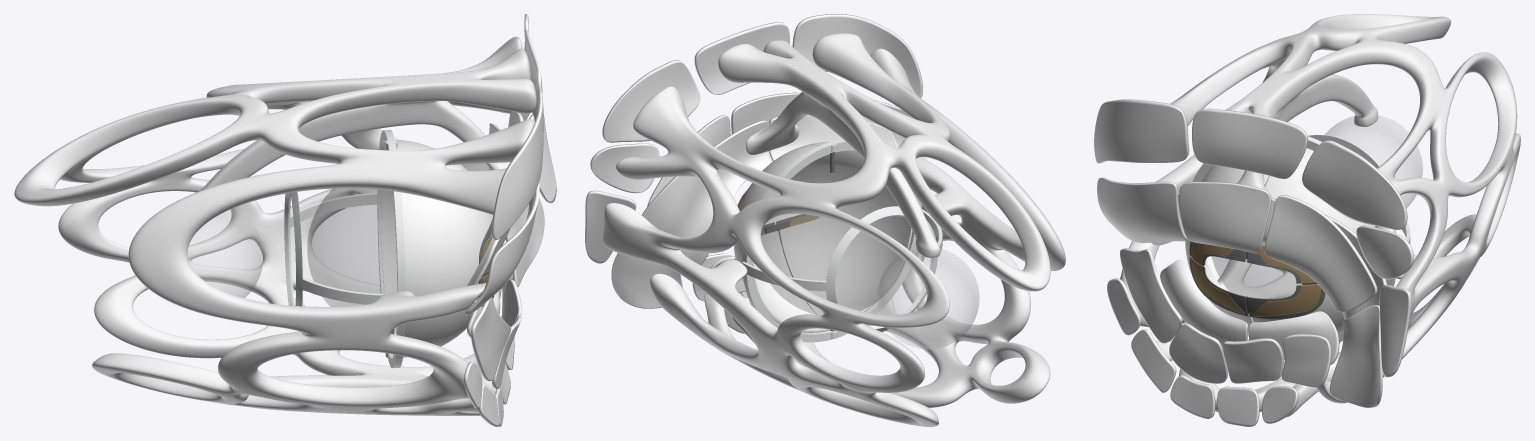
File: symphatic_eye.glb
3 renders of one model, left to right at view 1: azimuth 30°, elevation 25°; view 2: azimuth 150°, elevation 25°; view 3: azimuth 270°, elevation 25°, orthographic. The views are drawn at different scales.
Visible parts, largest first — view 1: backobj2(6A2AFE2C-17B3-454C-A26D-C7F89EE7CDE0), face2(60D54DBF-6707-4EA3-86E7-938D284A7E01), eyeball2(245463F2-D720-4BA3-96F3-92A0A26800F0), Layer 03(556131D1-140D-4EE6-8BC2-88CFD28135E4), Layer 03(143C93B9-9A65-481C-BA0E-18CB47DD3C3D), Layer 05(876AB7D2-BCBB-47B8-9987-E21C76E21DCC), Layer 05(76F17C8F-D341-43CC-A583-EF664C230679), eyeball(4D0A8C52-97C8-4DEB-8864-66B2F6092446), face2(021B373E-D235-4D30-9A2E-C11AE819CBC6); view 2: backobj2(6A2AFE2C-17B3-454C-A26D-C7F89EE7CDE0), face2(60D54DBF-6707-4EA3-86E7-938D284A7E01), Layer 03(556131D1-140D-4EE6-8BC2-88CFD28135E4), eyeball2(245463F2-D720-4BA3-96F3-92A0A26800F0), face2(021B373E-D235-4D30-9A2E-C11AE819CBC6), Layer 03(143C93B9-9A65-481C-BA0E-18CB47DD3C3D), eyeball(4D0A8C52-97C8-4DEB-8864-66B2F6092446), Layer 05(76F17C8F-D341-43CC-A583-EF664C230679), Layer 05(876AB7D2-BCBB-47B8-9987-E21C76E21DCC); view 3: face2(60D54DBF-6707-4EA3-86E7-938D284A7E01), backobj2(6A2AFE2C-17B3-454C-A26D-C7F89EE7CDE0), face2(021B373E-D235-4D30-9A2E-C11AE819CBC6), Layer 03(143C93B9-9A65-481C-BA0E-18CB47DD3C3D), Layer 03(556131D1-140D-4EE6-8BC2-88CFD28135E4), eyeball(4D0A8C52-97C8-4DEB-8864-66B2F6092446), eyecolor2(17D5601C-E4CE-4B9F-87A1-18B8A432BFAD), eyeball2(245463F2-D720-4BA3-96F3-92A0A26800F0), Layer 01(F42EA3EF-1D5A-4140-B3BC-B217B113D519), eyecolor2(187932F1-15FA-4686-BD4F-27A44E0F44D4), Layer 01(82EE4538-2ED8-43BE-B694-5B99B066EF90), Layer 05(876AB7D2-BCBB-47B8-9987-E21C76E21DCC) (+3 smaller).
Boxes of the visible parts, bbox=[...] form: backobj2(6A2AFE2C-17B3-454C-A26D-C7F89EE7CDE0): bbox=[14, 36, 536, 415]; face2(60D54DBF-6707-4EA3-86E7-938D284A7E01): bbox=[464, 14, 556, 426]; eyeball2(245463F2-D720-4BA3-96F3-92A0A26800F0): bbox=[393, 150, 492, 357]; Layer 03(556131D1-140D-4EE6-8BC2-88CFD28135E4): bbox=[307, 188, 396, 332]; Layer 03(143C93B9-9A65-481C-BA0E-18CB47DD3C3D): bbox=[187, 207, 263, 297]; Layer 05(876AB7D2-BCBB-47B8-9987-E21C76E21DCC): bbox=[284, 191, 383, 306]; Layer 05(76F17C8F-D341-43CC-A583-EF664C230679): bbox=[377, 130, 405, 368]; eyeball(4D0A8C52-97C8-4DEB-8864-66B2F6092446): bbox=[381, 139, 467, 334]; face2(021B373E-D235-4D30-9A2E-C11AE819CBC6): bbox=[467, 123, 510, 338]; backobj2(6A2AFE2C-17B3-454C-A26D-C7F89EE7CDE0): bbox=[602, 33, 1065, 426]; face2(60D54DBF-6707-4EA3-86E7-938D284A7E01): bbox=[585, 14, 925, 333]; Layer 03(556131D1-140D-4EE6-8BC2-88CFD28135E4): bbox=[761, 165, 907, 314]; eyeball2(245463F2-D720-4BA3-96F3-92A0A26800F0): bbox=[779, 141, 912, 314]; face2(021B373E-D235-4D30-9A2E-C11AE819CBC6): bbox=[642, 115, 897, 292]; Layer 03(143C93B9-9A65-481C-BA0E-18CB47DD3C3D): bbox=[877, 248, 979, 349]; eyeball(4D0A8C52-97C8-4DEB-8864-66B2F6092446): bbox=[734, 145, 830, 332]; Layer 05(76F17C8F-D341-43CC-A583-EF664C230679): bbox=[742, 139, 922, 342]; Layer 05(876AB7D2-BCBB-47B8-9987-E21C76E21DCC): bbox=[741, 206, 942, 331]; face2(60D54DBF-6707-4EA3-86E7-938D284A7E01): bbox=[1094, 99, 1413, 426]; backobj2(6A2AFE2C-17B3-454C-A26D-C7F89EE7CDE0): bbox=[1120, 14, 1520, 417]; face2(021B373E-D235-4D30-9A2E-C11AE819CBC6): bbox=[1151, 192, 1386, 364]; Layer 03(143C93B9-9A65-481C-BA0E-18CB47DD3C3D): bbox=[1325, 115, 1422, 208]; Layer 03(556131D1-140D-4EE6-8BC2-88CFD28135E4): bbox=[1212, 256, 1301, 298]; eyeball(4D0A8C52-97C8-4DEB-8864-66B2F6092446): bbox=[1252, 148, 1375, 333]; eyecolor2(17D5601C-E4CE-4B9F-87A1-18B8A432BFAD): bbox=[1252, 284, 1321, 316]; eyeball2(245463F2-D720-4BA3-96F3-92A0A26800F0): bbox=[1185, 165, 1269, 335]; Layer 01(F42EA3EF-1D5A-4140-B3BC-B217B113D519): bbox=[1247, 285, 1325, 318]; eyecolor2(187932F1-15FA-4686-BD4F-27A44E0F44D4): bbox=[1191, 258, 1244, 313]; Layer 01(82EE4538-2ED8-43BE-B694-5B99B066EF90): bbox=[1189, 256, 1248, 316]; Layer 05(876AB7D2-BCBB-47B8-9987-E21C76E21DCC): bbox=[1308, 135, 1410, 244].
Bounding box in the file's own units: 6.26 × 3.88 × 4.54.
Materials: 20 (4 with a texture image).
